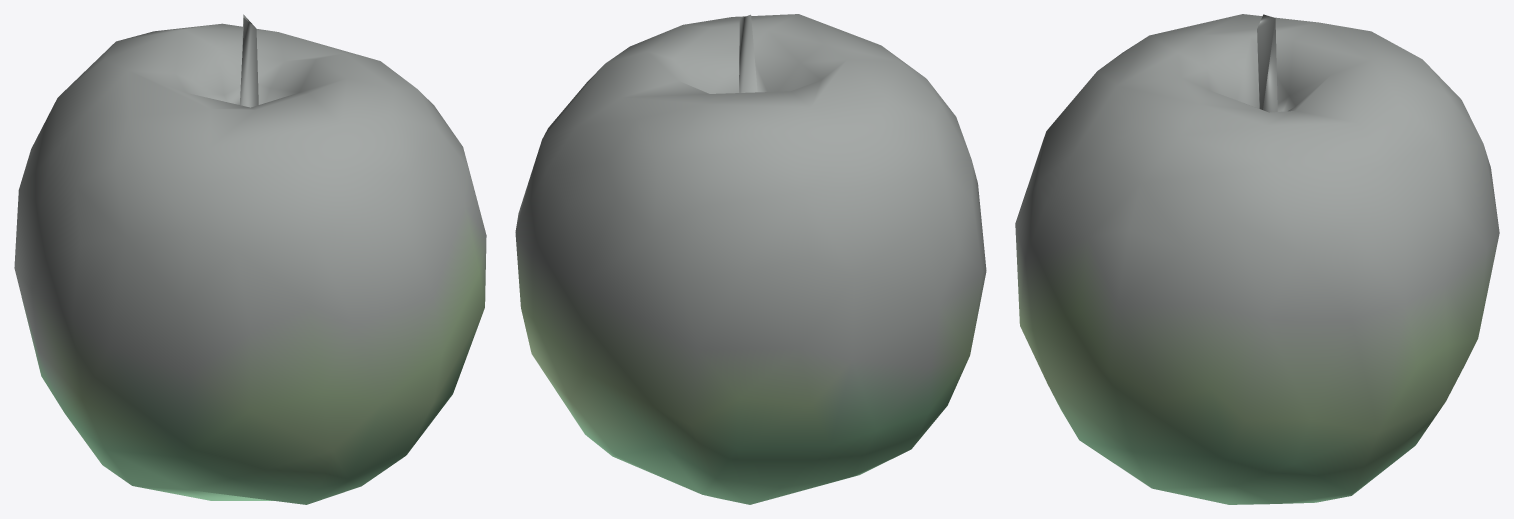
The picture shows the model from 3 angles, left to right: view 1: azimuth 30°, elevation 25°; view 2: azimuth 150°, elevation 25°; view 3: azimuth 270°, elevation 25°; orthographic projection.
Parts seen in each view (by area): view 1: G:\FFXIV-MapTools\exports\y6f3\bg\ex5\02_ykt_y6\fld\y6f3\bgp; view 2: G:\FFXIV-MapTools\exports\y6f3\bg\ex5\02_ykt_y6\fld\y6f3\bgp; view 3: G:\FFXIV-MapTools\exports\y6f3\bg\ex5\02_ykt_y6\fld\y6f3\bgp.
Part boxes in pixels (x1=…): G:\FFXIV-MapTools\exports\y6f3\bg\ex5\02_ykt_y6\fld\y6f3\bgp: x1=14, y1=14, x2=486, y2=504; G:\FFXIV-MapTools\exports\y6f3\bg\ex5\02_ykt_y6\fld\y6f3\bgp: x1=515, y1=14, x2=986, y2=504; G:\FFXIV-MapTools\exports\y6f3\bg\ex5\02_ykt_y6\fld\y6f3\bgp: x1=1015, y1=14, x2=1499, y2=504.
Bounding box in the file's own units: 0.311 × 0.3306 × 0.3192.
